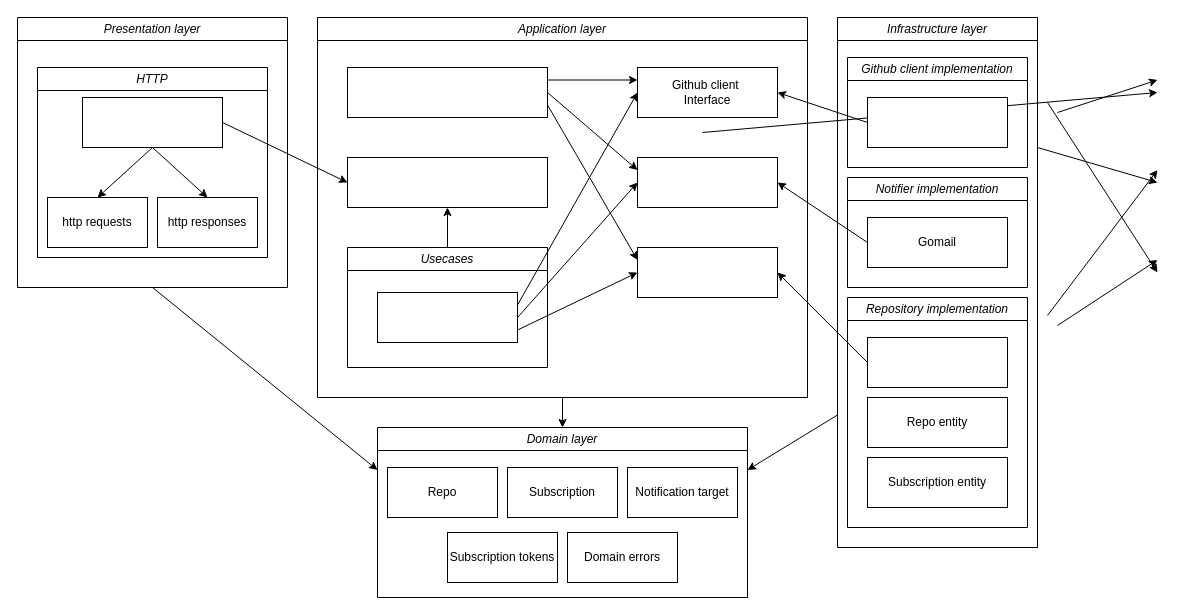
Some shapes in this 1183 by 615 pixel diagram are drawn without their labels. Here are the shapes that lost their labels. From the top down, the centre of each, then its label:
At pixel 447 92: "Scanner".
At pixel 152 122: "Controllers".
At pixel 937 122: "Github client".
At pixel 447 182: "Usecases Interface".
At pixel 707 182: "Notifier Interface".
At pixel 707 272: "Repository Interface".
At pixel 447 317: "Subscription use case".
At pixel 937 362: "MariaDB".
